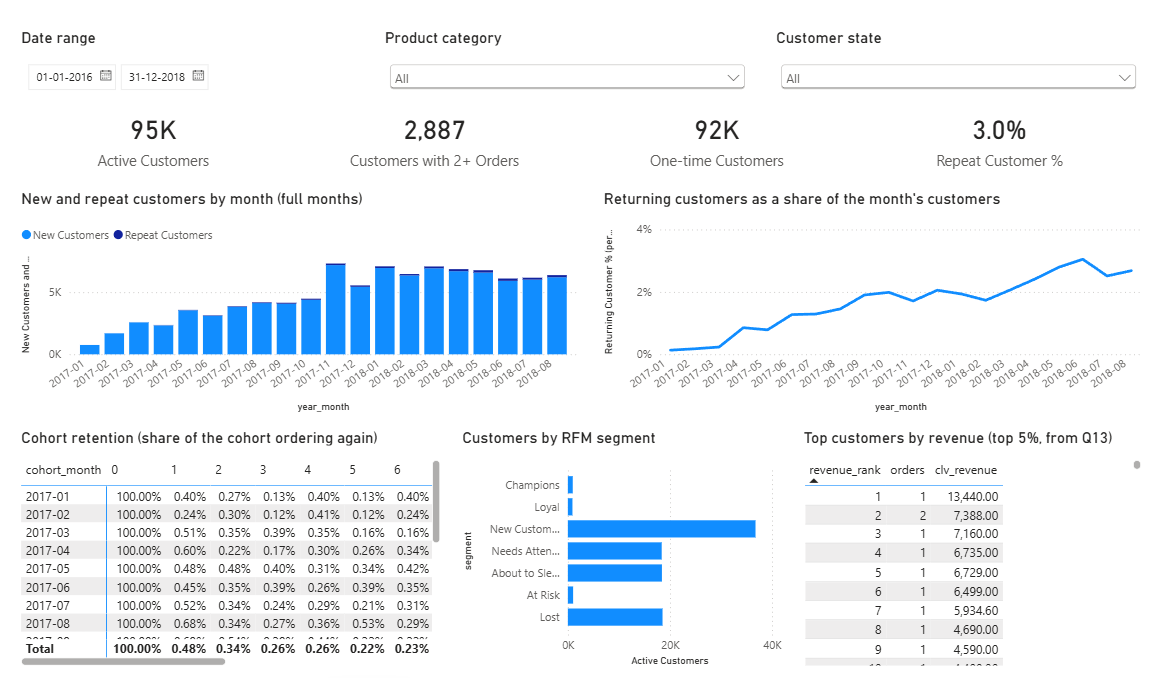

Layout of this report page (visuals, bound fields, positions):
{"tool":"powerbi","page":{"name":"Customers","canvas":[1280,720],"ordinal":1},"visuals":[{"type":"card","fields":{"Values":["fact_orders.Active Customers"]},"box":[20,84,300,86],"z":1},{"type":"card","fields":{"Values":["fact_orders.Customers with 2+ Orders"]},"box":[330,84,300,86],"z":2},{"type":"card","fields":{"Values":["fact_orders.One-time Customers"]},"box":[640,84,300,86],"z":3},{"type":"card","fields":{"Values":["fact_orders.Repeat Customer %"]},"box":[950,84,300,86],"z":4},{"type":"columnChart","title":"New and repeat customers by month (full months)","fields":{"Category":["dim_date.year_month"],"Y":["fact_orders.New Customers","fact_orders.Repeat Customers"]},"box":[20,182,620,250],"z":10},{"type":"lineChart","title":"Returning customers as a share of the month''s customers","fields":{"Category":["dim_date.year_month"],"Y":["fact_orders.Returning Customer % (period)"]},"box":[660,182,600,250],"z":11},{"type":"pivotTable","title":"Cohort retention (share of the cohort ordering again)","fields":{"Rows":["cohort_retention.cohort_month"],"Columns":["cohort_retention.month_index"],"Values":["cohort_retention.Cohort Retention %"]},"box":[20,444,470,266],"z":12},{"type":"clusteredBarChart","title":"Customers by RFM segment","fields":{"Category":["dim_customer.segment"],"Y":["fact_orders.Active Customers"]},"box":[505,444,360,266],"z":13},{"type":"tableEx","title":"Top customers by revenue (top 5%, from Q13)","fields":{"Values":["top_customers.revenue_rank","top_customers.orders","top_customers.clv_revenue"]},"box":[880,444,380,266],"z":14},{"type":"slicer","title":"Date range","fields":{"Values":["dim_date.date"]},"box":[20,6,380,72],"z":100},{"type":"slicer","title":"Product category","fields":{"Values":["dim_product.category"]},"box":[420,6,410,72],"z":101},{"type":"slicer","title":"Customer state","fields":{"Values":["dim_state.state_name"]},"box":[850,6,410,72],"z":102}]}

Visuals, with their boxes on the page's 1280x720 design canvas (x1, y1, x2, y2). These are canvas units, not pixel positions in the 1162x678 screenshot, which may show the page scaled, cropped or inside an application window:
card - fact_orders.Active Customers: 20 84 320 170
card - fact_orders.Customers with 2+ Orders: 330 84 630 170
card - fact_orders.One-time Customers: 640 84 940 170
card - fact_orders.Repeat Customer %: 950 84 1250 170
"New and repeat customers by month (full months)" columnChart: 20 182 640 432
"Returning customers as a share of the month''s customers" lineChart: 660 182 1260 432
"Cohort retention (share of the cohort ordering again)" pivotTable: 20 444 490 710
"Customers by RFM segment" clusteredBarChart: 505 444 865 710
"Top customers by revenue (top 5%, from Q13)" tableEx: 880 444 1260 710
"Date range" slicer: 20 6 400 78
"Product category" slicer: 420 6 830 78
"Customer state" slicer: 850 6 1260 78
